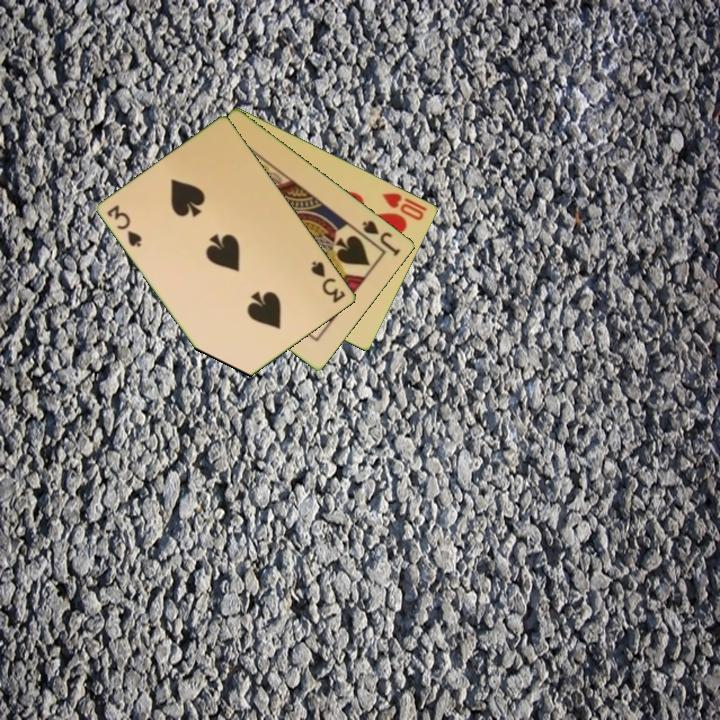10h: (379, 189, 430, 223)
3s: (308, 257, 349, 306), (104, 201, 145, 250)
Js: (359, 217, 404, 259)
